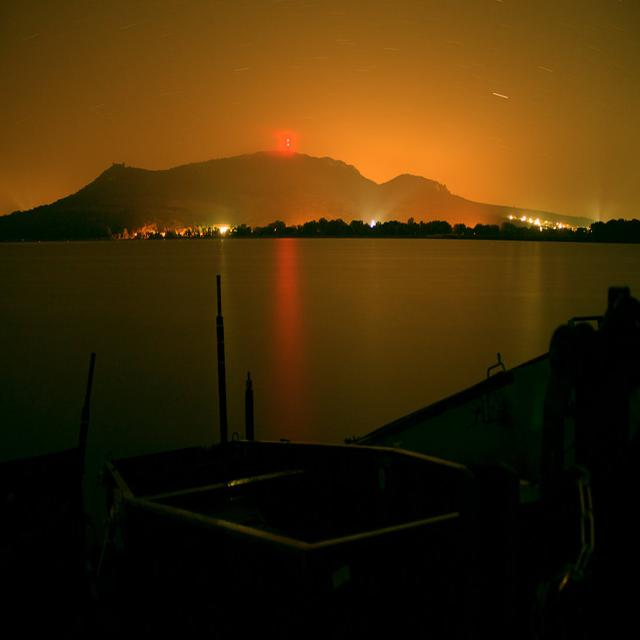Boat: (90, 385, 488, 609)
